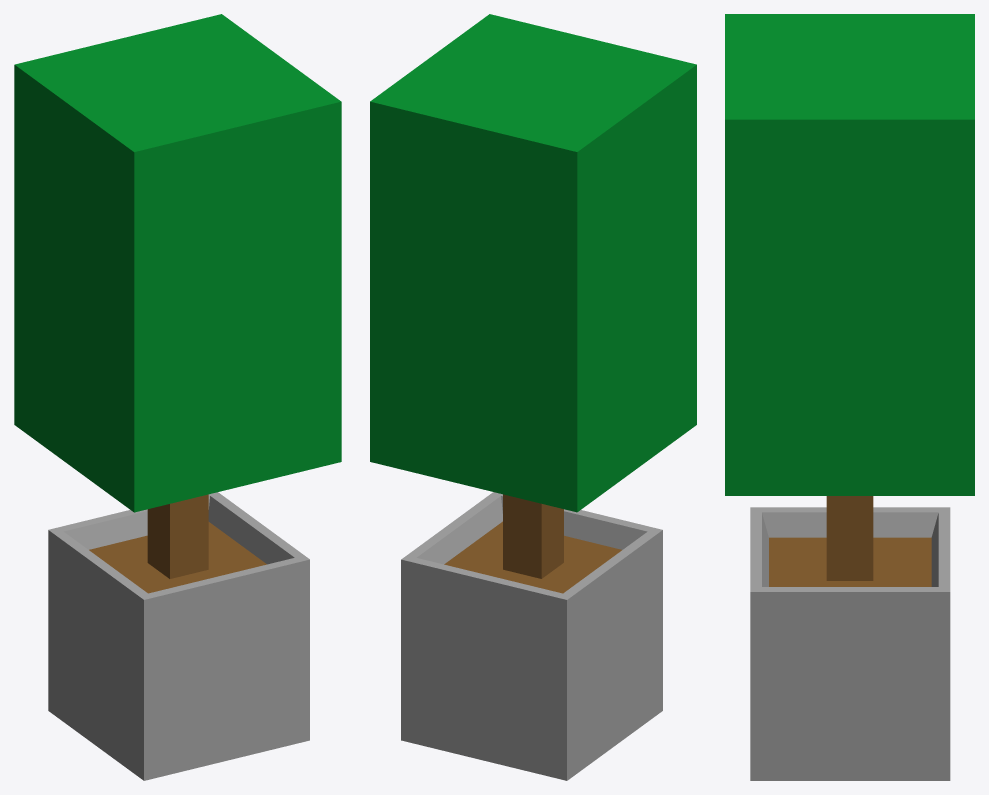
Rendered from Tree Pot_6.fbx.
3 views of the same model, side by side, from view 1: azimuth 30°, elevation 25°; view 2: azimuth 150°, elevation 25°; view 3: azimuth 270°, elevation 25° (orthographic). The views are drawn at different scales.
Visible parts, largest first — view 1: Tree Pot_6; view 2: Tree Pot_6; view 3: Tree Pot_6.
Part boxes in pixels (x1=…): Tree Pot_6: x1=14, y1=14, x2=341, y2=780; Tree Pot_6: x1=370, y1=14, x2=696, y2=780; Tree Pot_6: x1=725, y1=14, x2=974, y2=780.
Size of the model in its own units: 0.1138 by 0.3371 by 0.1138.
